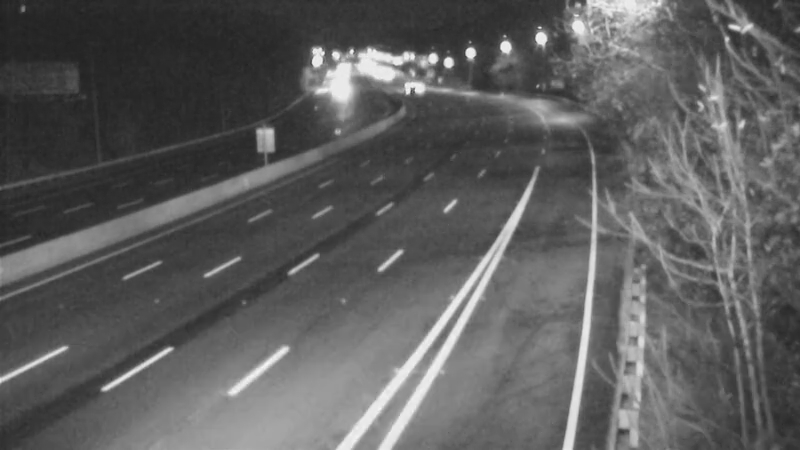vehicle: (384, 65, 434, 115), (315, 65, 365, 115)
